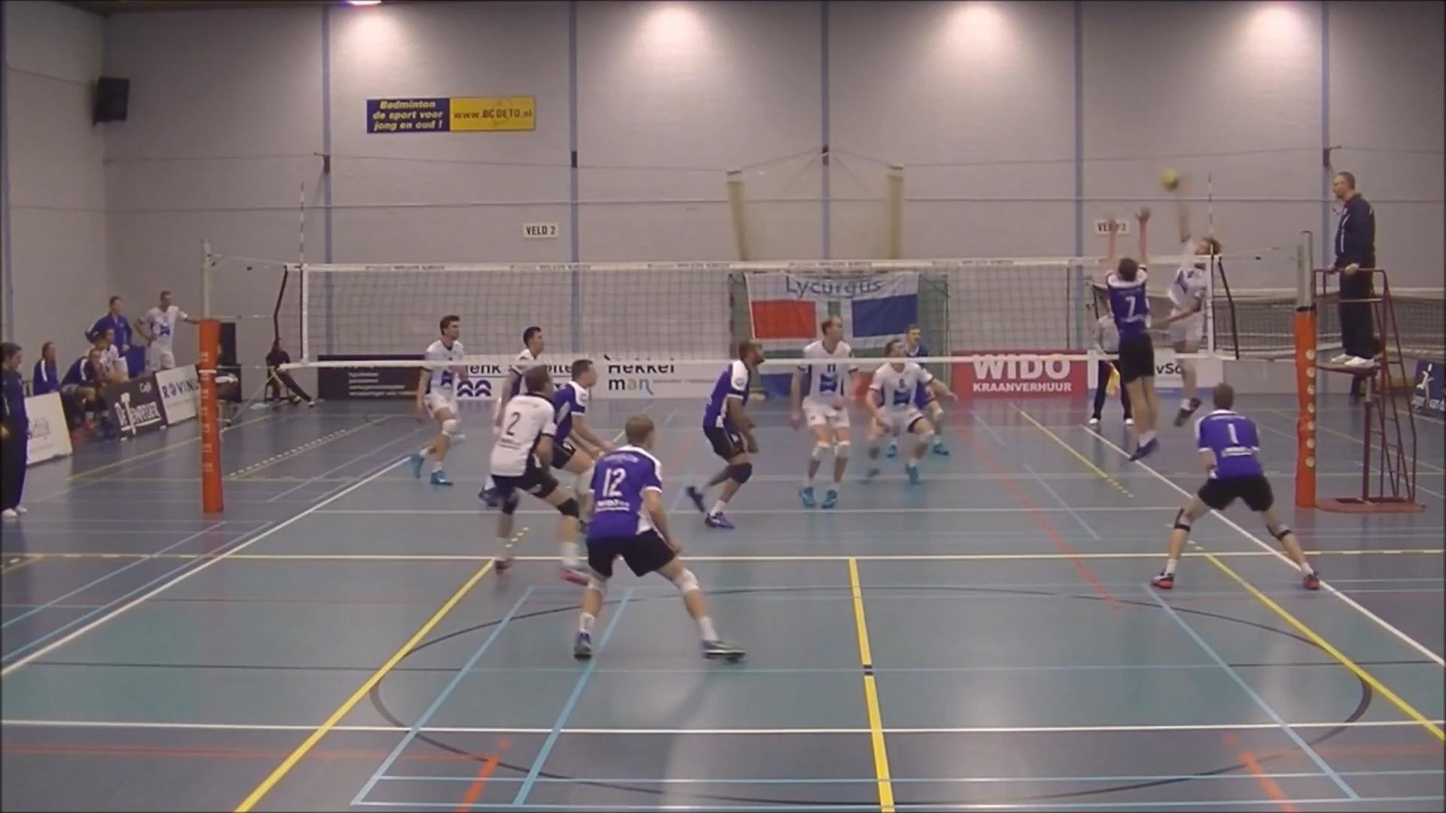attacco: (1155, 161, 1222, 432)
muro: (1073, 202, 1180, 471)
